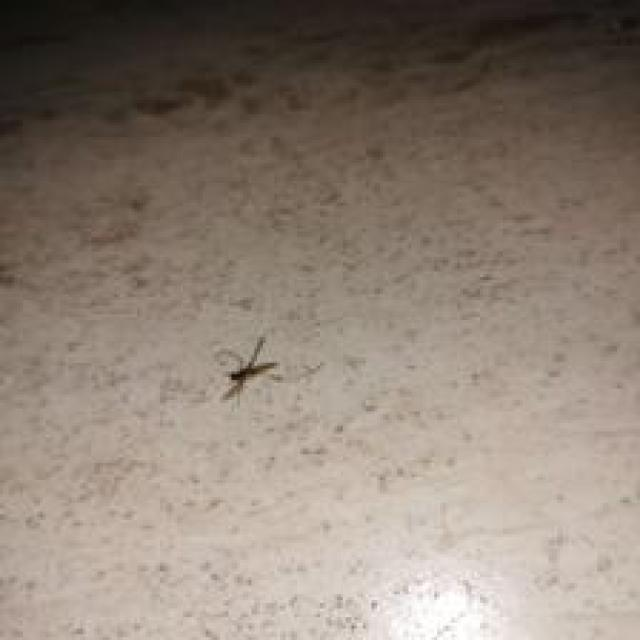Culex: (218, 334, 278, 406)
